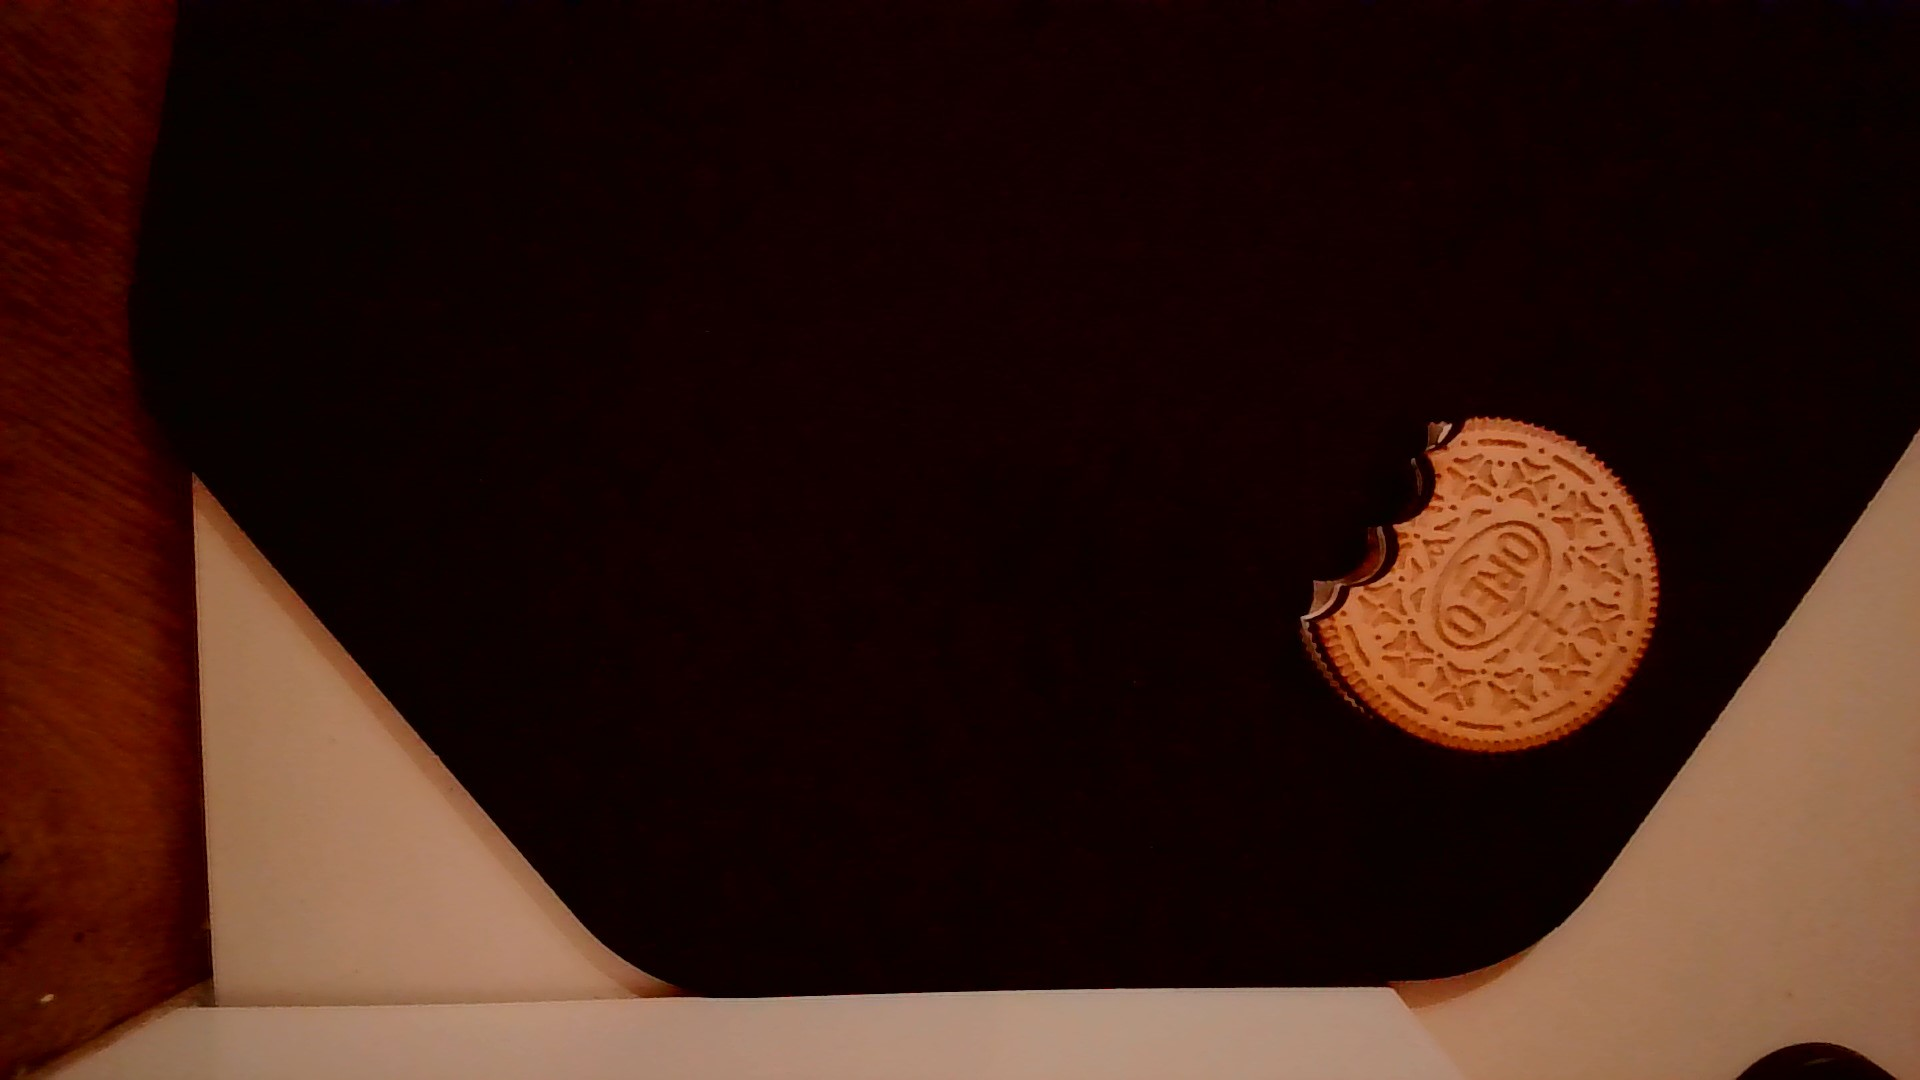Mangé: (1283, 401, 1480, 636)
Oréo: (1287, 407, 1669, 765)
